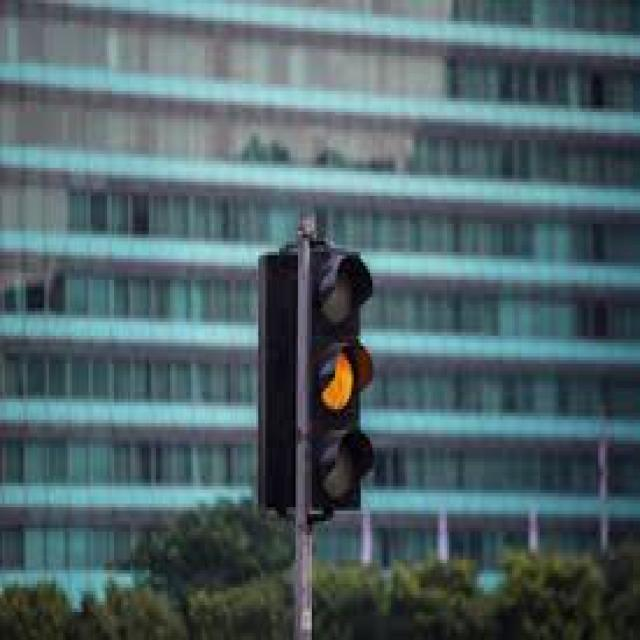yellow_light: (302, 245, 372, 509)
